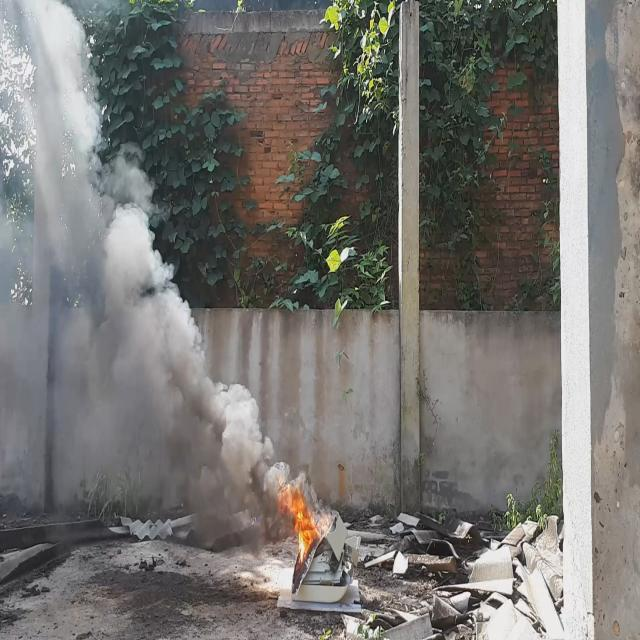Fire: (278, 476, 328, 570)
Smoke: (0, 0, 317, 532)
